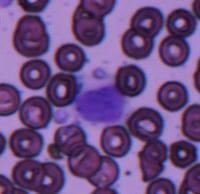L: (74, 82, 125, 126)
